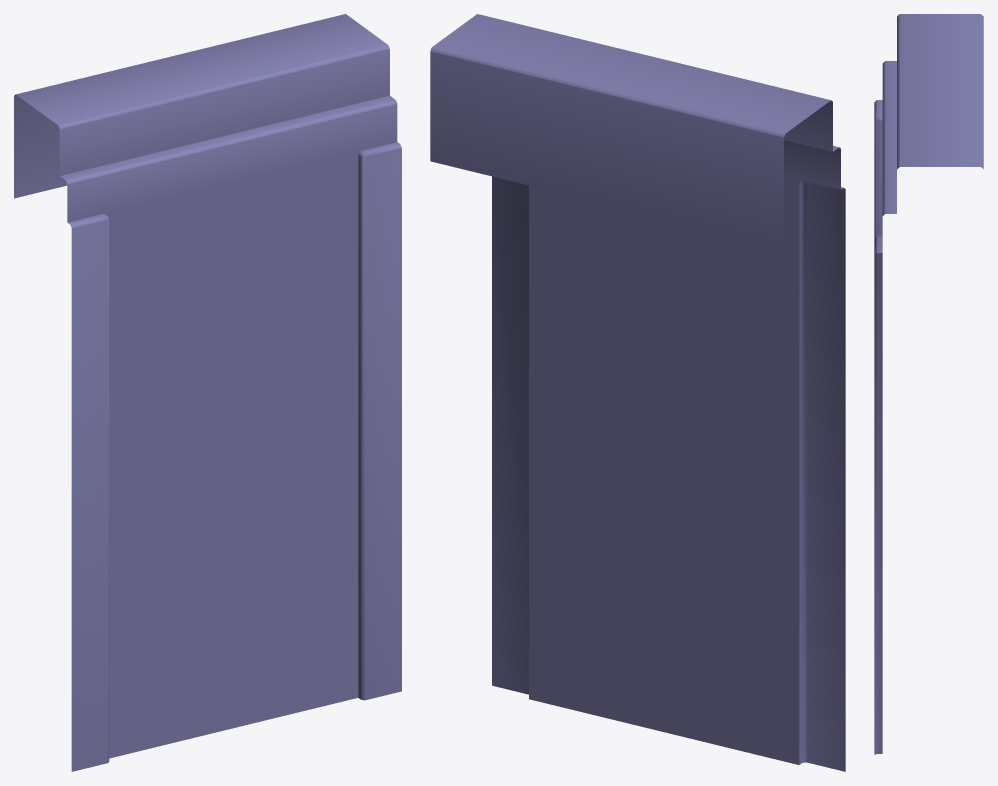
The model's file is M_A_wall_04.fbx.
The picture shows the model from 3 angles, left to right: view 1: azimuth 30°, elevation 25°; view 2: azimuth 150°, elevation 25°; view 3: azimuth 270°, elevation 25°; orthographic projection. The views are drawn at different scales.
Parts seen in each view (by area): view 1: M_A_wall_04; view 2: M_A_wall_04; view 3: M_A_wall_04.
Part boxes in pixels (left/top/right/bottom): M_A_wall_04: left=14, top=14, right=401, bottom=771; M_A_wall_04: left=430, top=14, right=845, bottom=771; M_A_wall_04: left=874, top=14, right=983, bottom=754.
Size of the model in its own units: 200 by 369 by 60.44.
